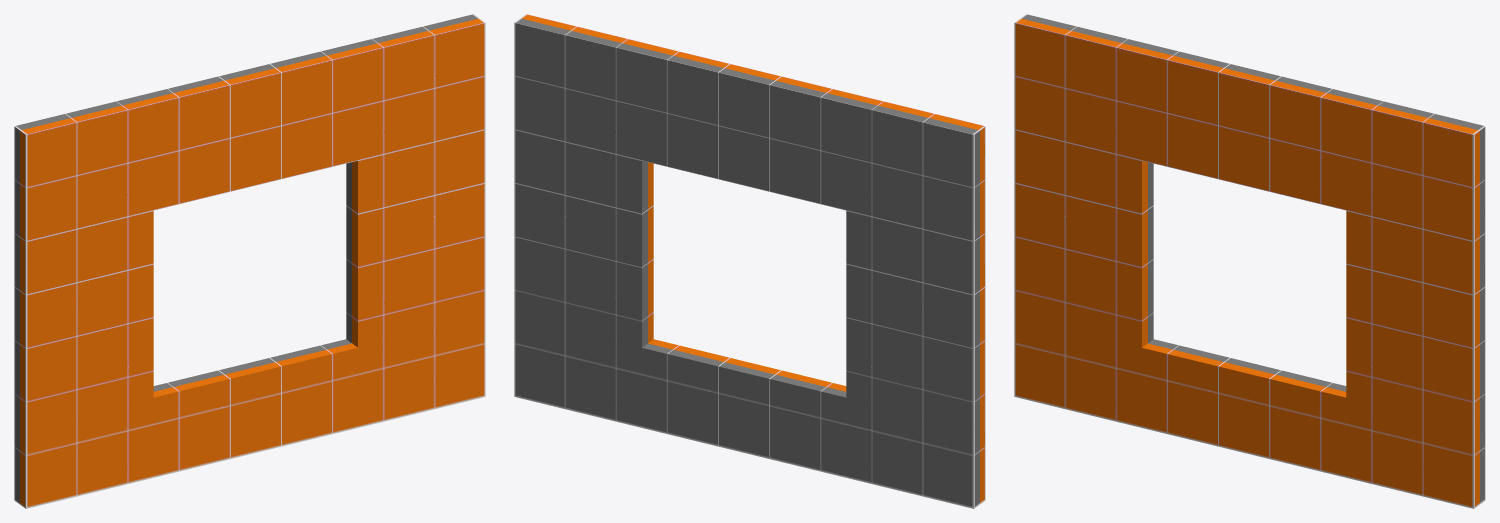
File: M01WallWindowTypeB_1.FBX
3 views of the same model, side by side, from view 1: azimuth 30°, elevation 25°; view 2: azimuth 150°, elevation 25°; view 3: azimuth 330°, elevation 25° (orthographic).
Parts seen in each view (by area): view 1: M01WallWindowTypeB_1; view 2: M01WallWindowTypeB_1; view 3: M01WallWindowTypeB_1.
Boxes of the visible parts, box(x1,y1,x2,y2) form: M01WallWindowTypeB_1: box(14, 14, 485, 508); M01WallWindowTypeB_1: box(514, 14, 985, 508); M01WallWindowTypeB_1: box(1014, 14, 1485, 508).
Size of what is drawn, in the model's own units: 4.5 by 3.5 by 0.2.
